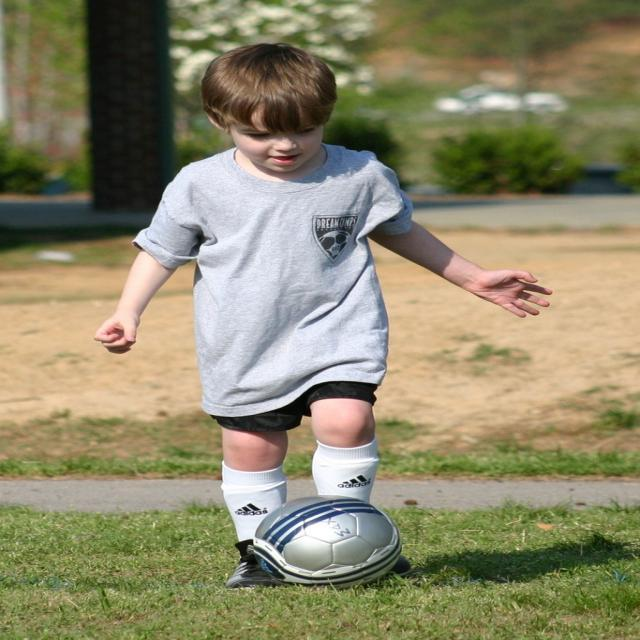football: (230, 474, 419, 603)
